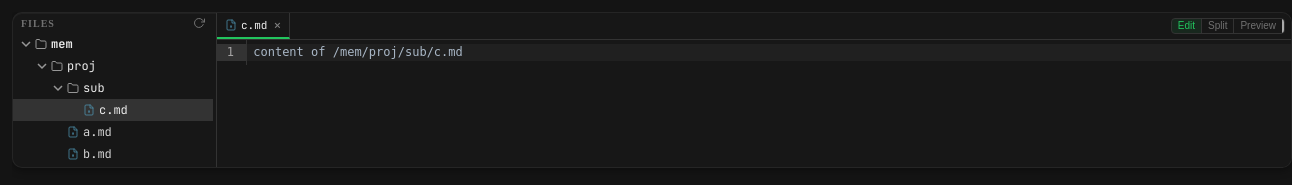
Scenario: MemoryPanel › collapses and re-expands a directory
Click the button titled "sub" at (113, 88), box [13,77,213,99]
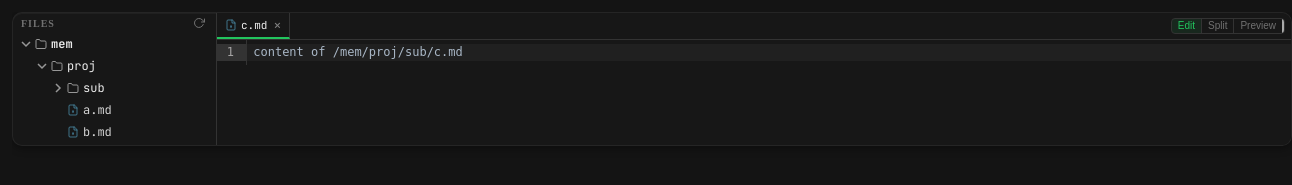
expect the number of buttons titled "/mem/proj/sub/c.md" is 1: met, box [217,13,290,39]
Click the button titled "sub" at (113, 88), box [13,77,213,99]
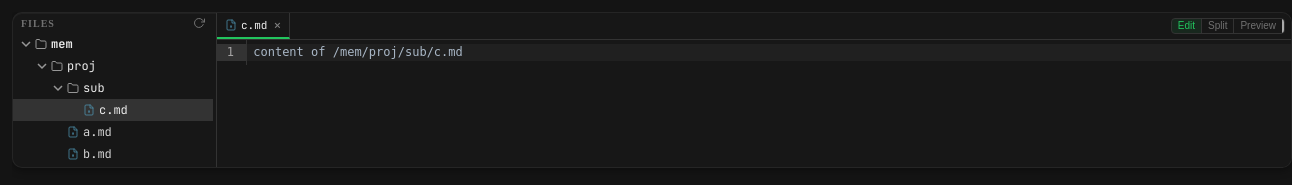
expect the number of buttons titled "/mem/proj/sub/c.md" is 2: met, box [13,99,213,121]; [217,13,290,39]
